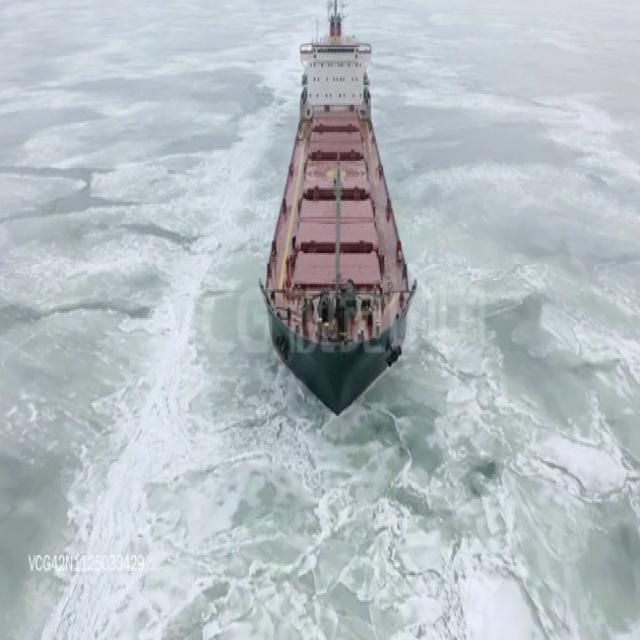cargoship: (261, 0, 417, 407)
